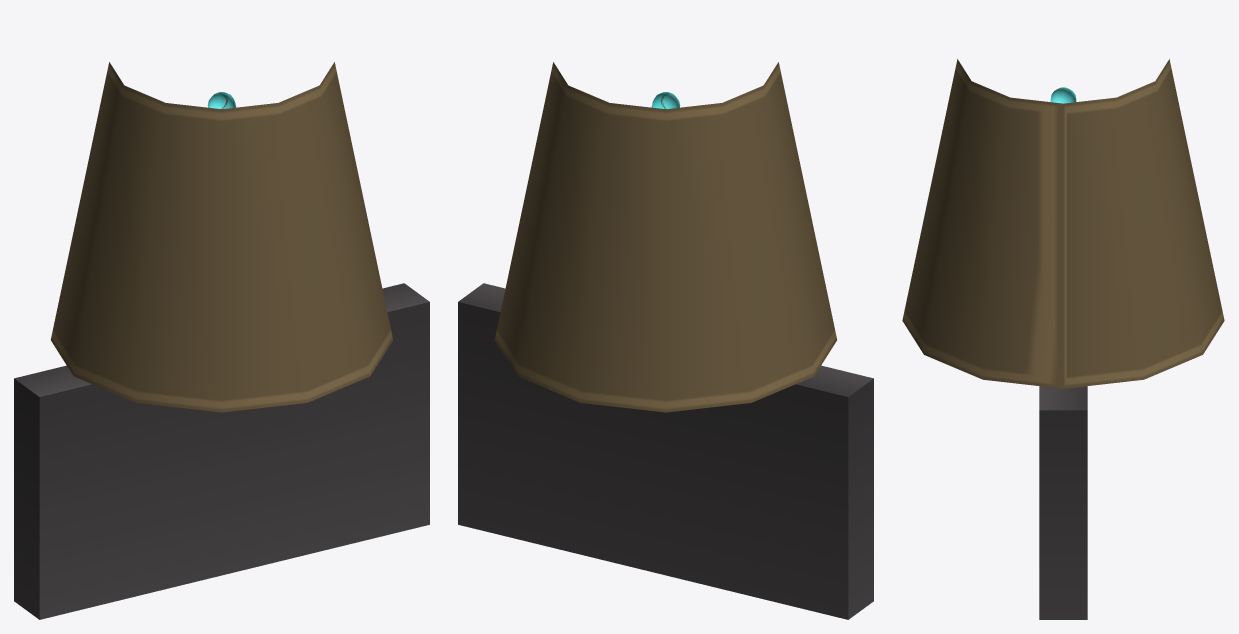
Rendered from whispering_lattice.glb.
3 renders of one model, left to right at view 1: azimuth 30°, elevation 25°; view 2: azimuth 150°, elevation 25°; view 3: azimuth 270°, elevation 25°, orthographic. The views are drawn at different scales.
Visible parts, largest first — view 1: whispering_lattice; view 2: whispering_lattice; view 3: whispering_lattice.
Boxes of the visible parts, bbox=[...] form: whispering_lattice: bbox=[14, 62, 429, 619]; whispering_lattice: bbox=[458, 62, 873, 619]; whispering_lattice: bbox=[902, 59, 1224, 619].
Bounding box in the file's own units: 2.2 × 2.7 × 1.67.
Materials: 1 (1 with a texture image).
